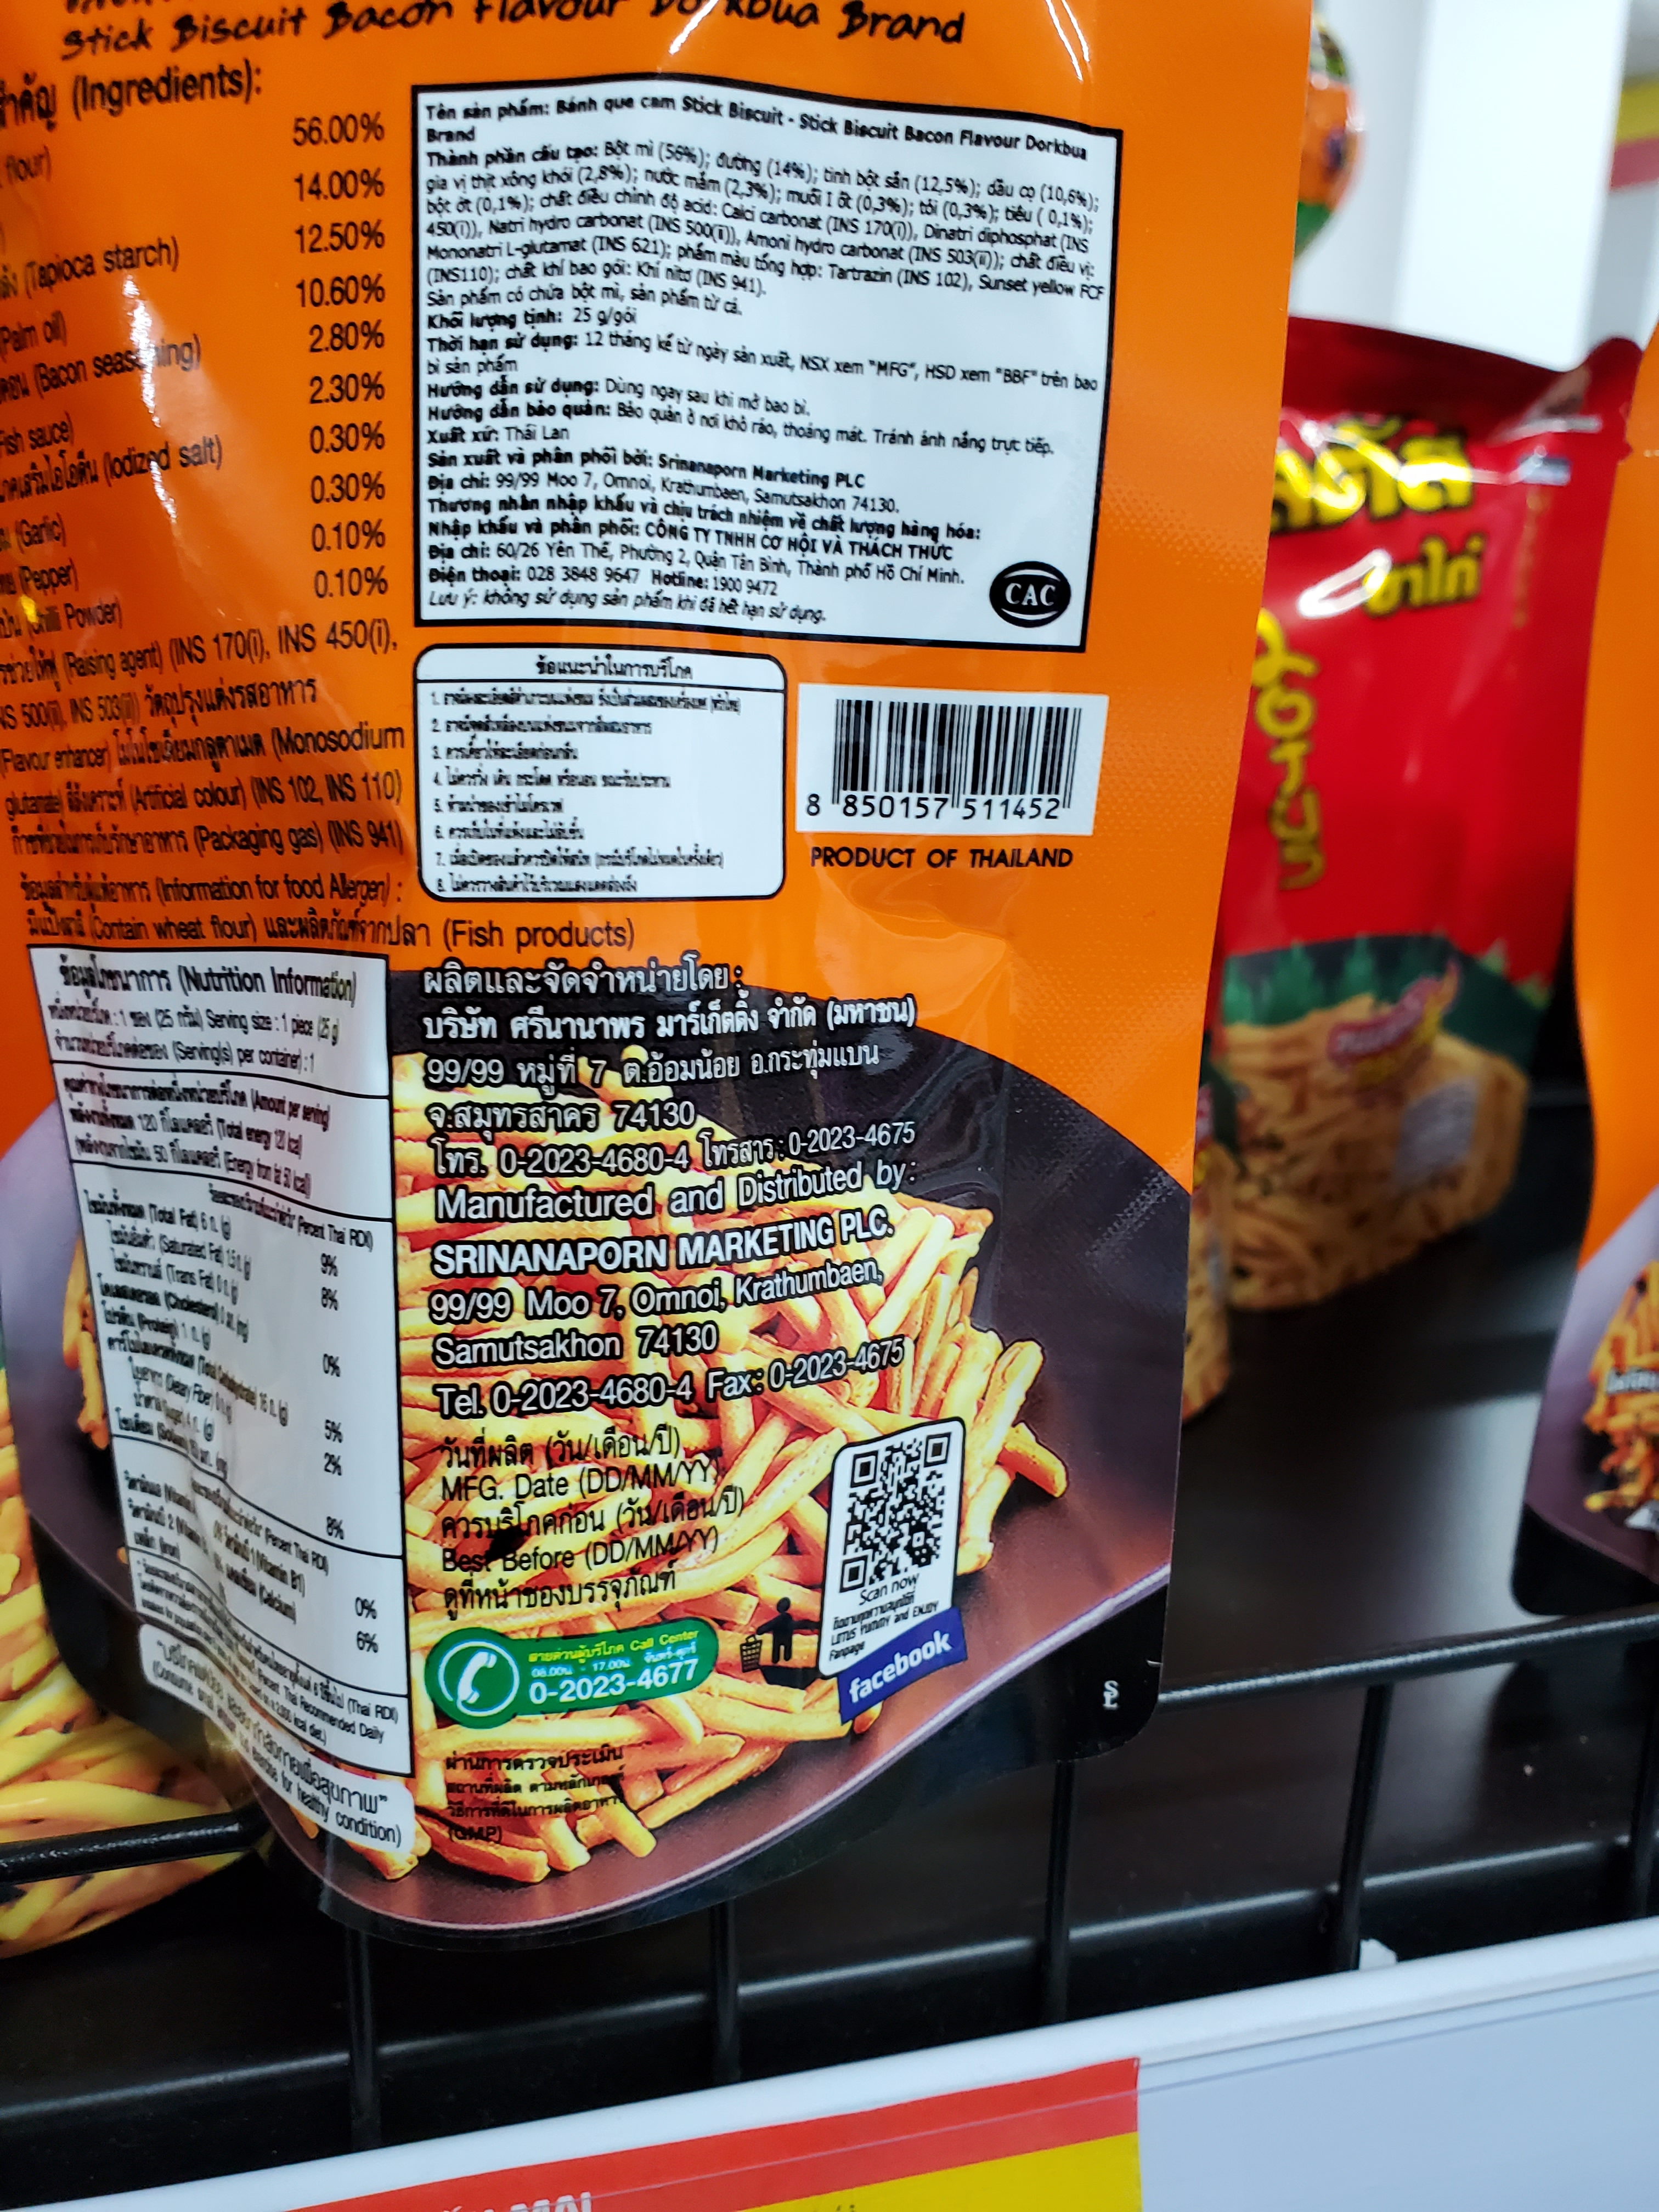barcode: (788, 681, 1105, 841)
qr code: (833, 1416, 988, 1609)
